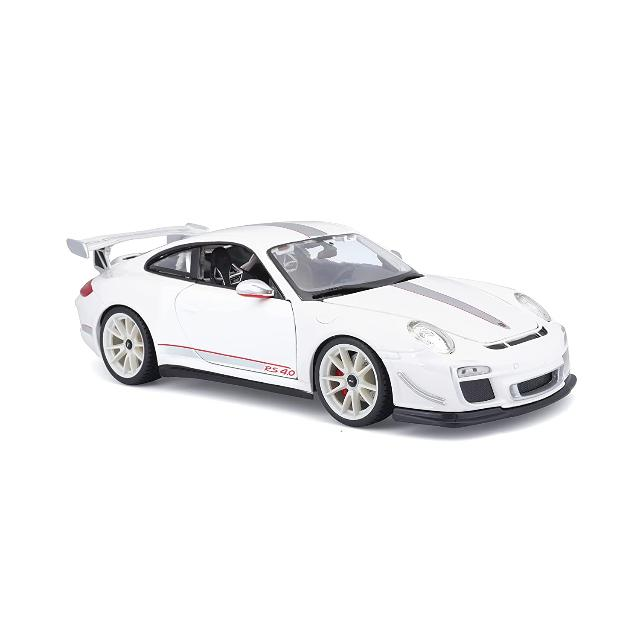porsche: (65, 220, 577, 430)
